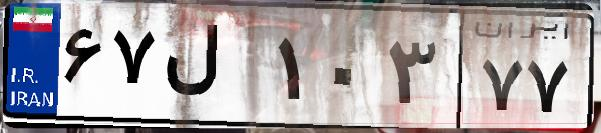0: (330, 28, 385, 110)
1: (270, 28, 330, 110)
3: (385, 28, 445, 110)
6: (57, 26, 110, 100)
7: (475, 38, 525, 113), (525, 38, 570, 115), (110, 28, 158, 98)
ل: (158, 20, 270, 120)
